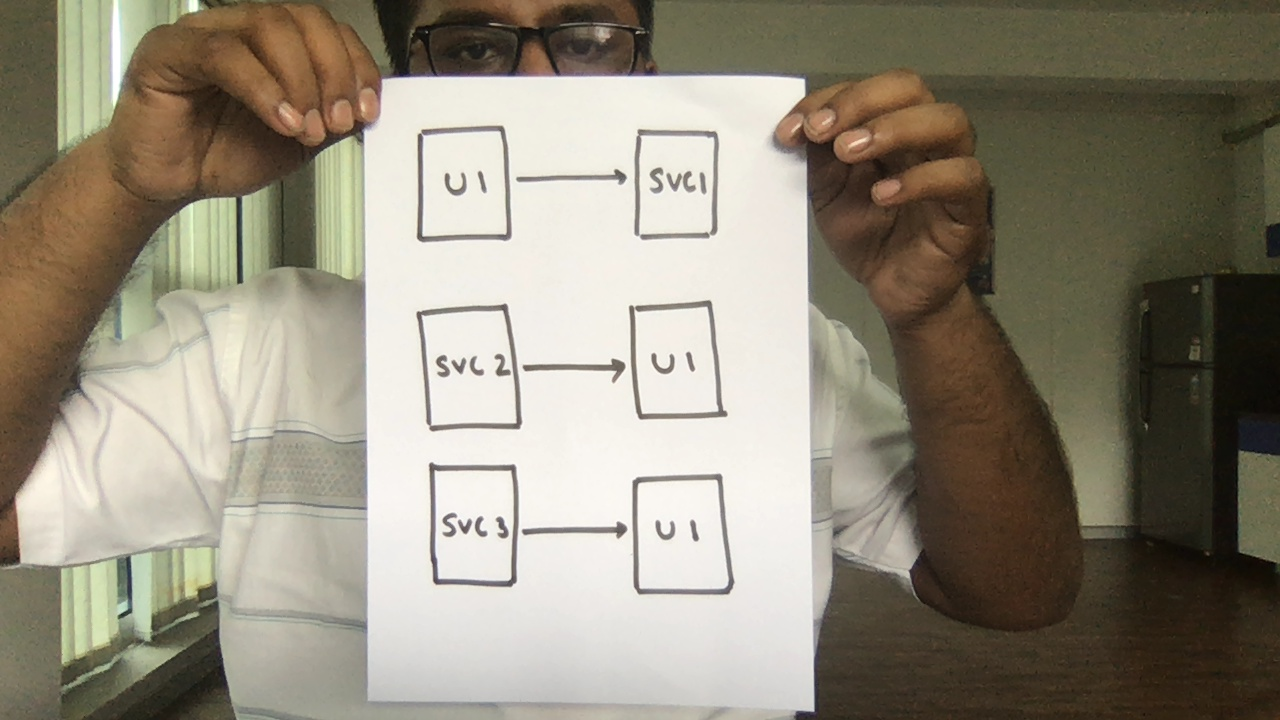ec2: (411, 302, 526, 434), (423, 460, 525, 592), (628, 124, 722, 245)
ui: (412, 122, 518, 249), (623, 298, 729, 425), (628, 474, 734, 601)
